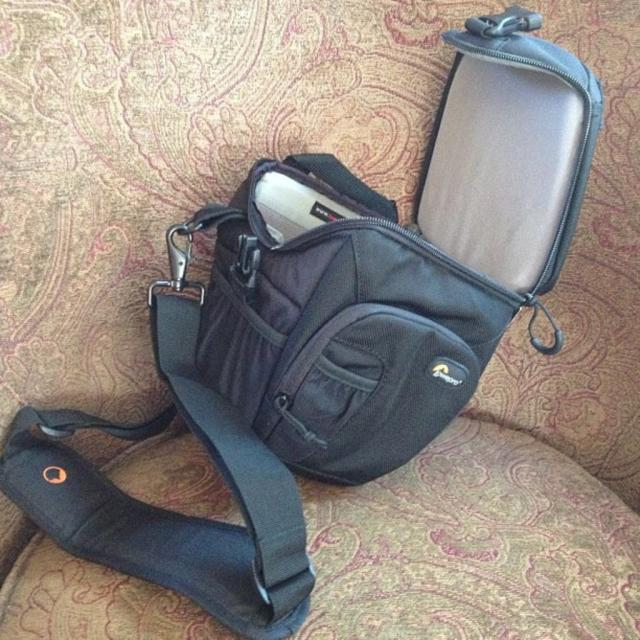backpack: (0, 6, 602, 639)
